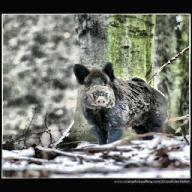boar: (72, 62, 168, 144)
